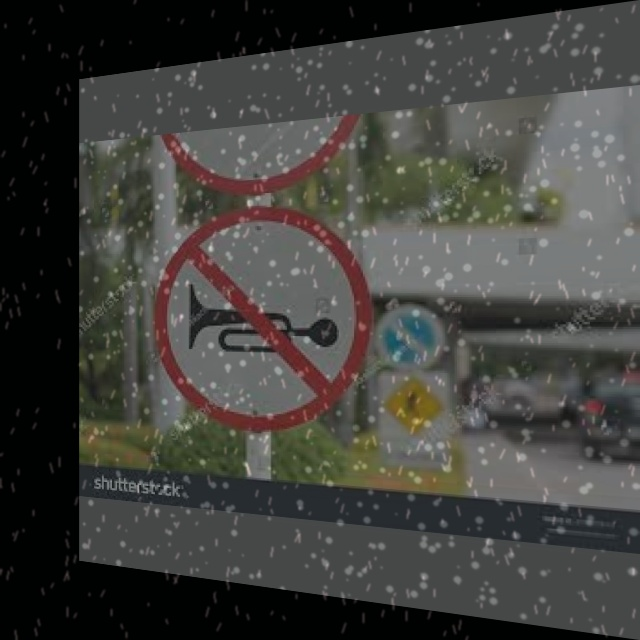Horn_Prohibited: (167, 205, 360, 430)
